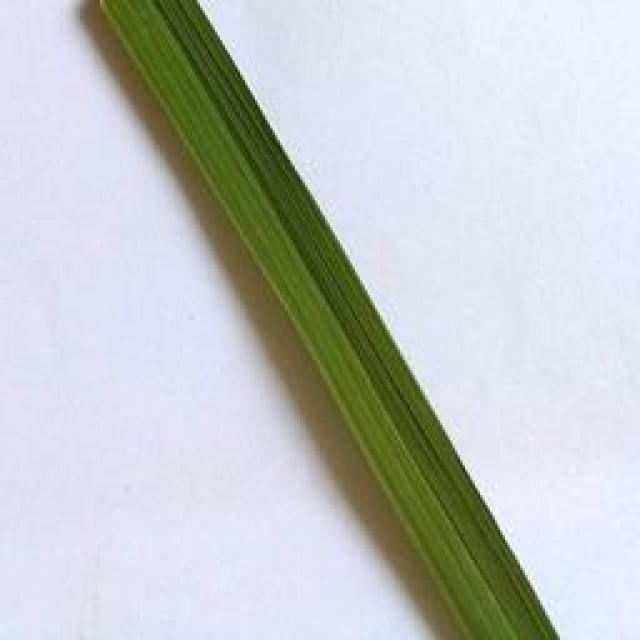Healthy-Plant: (103, 0, 561, 640)
